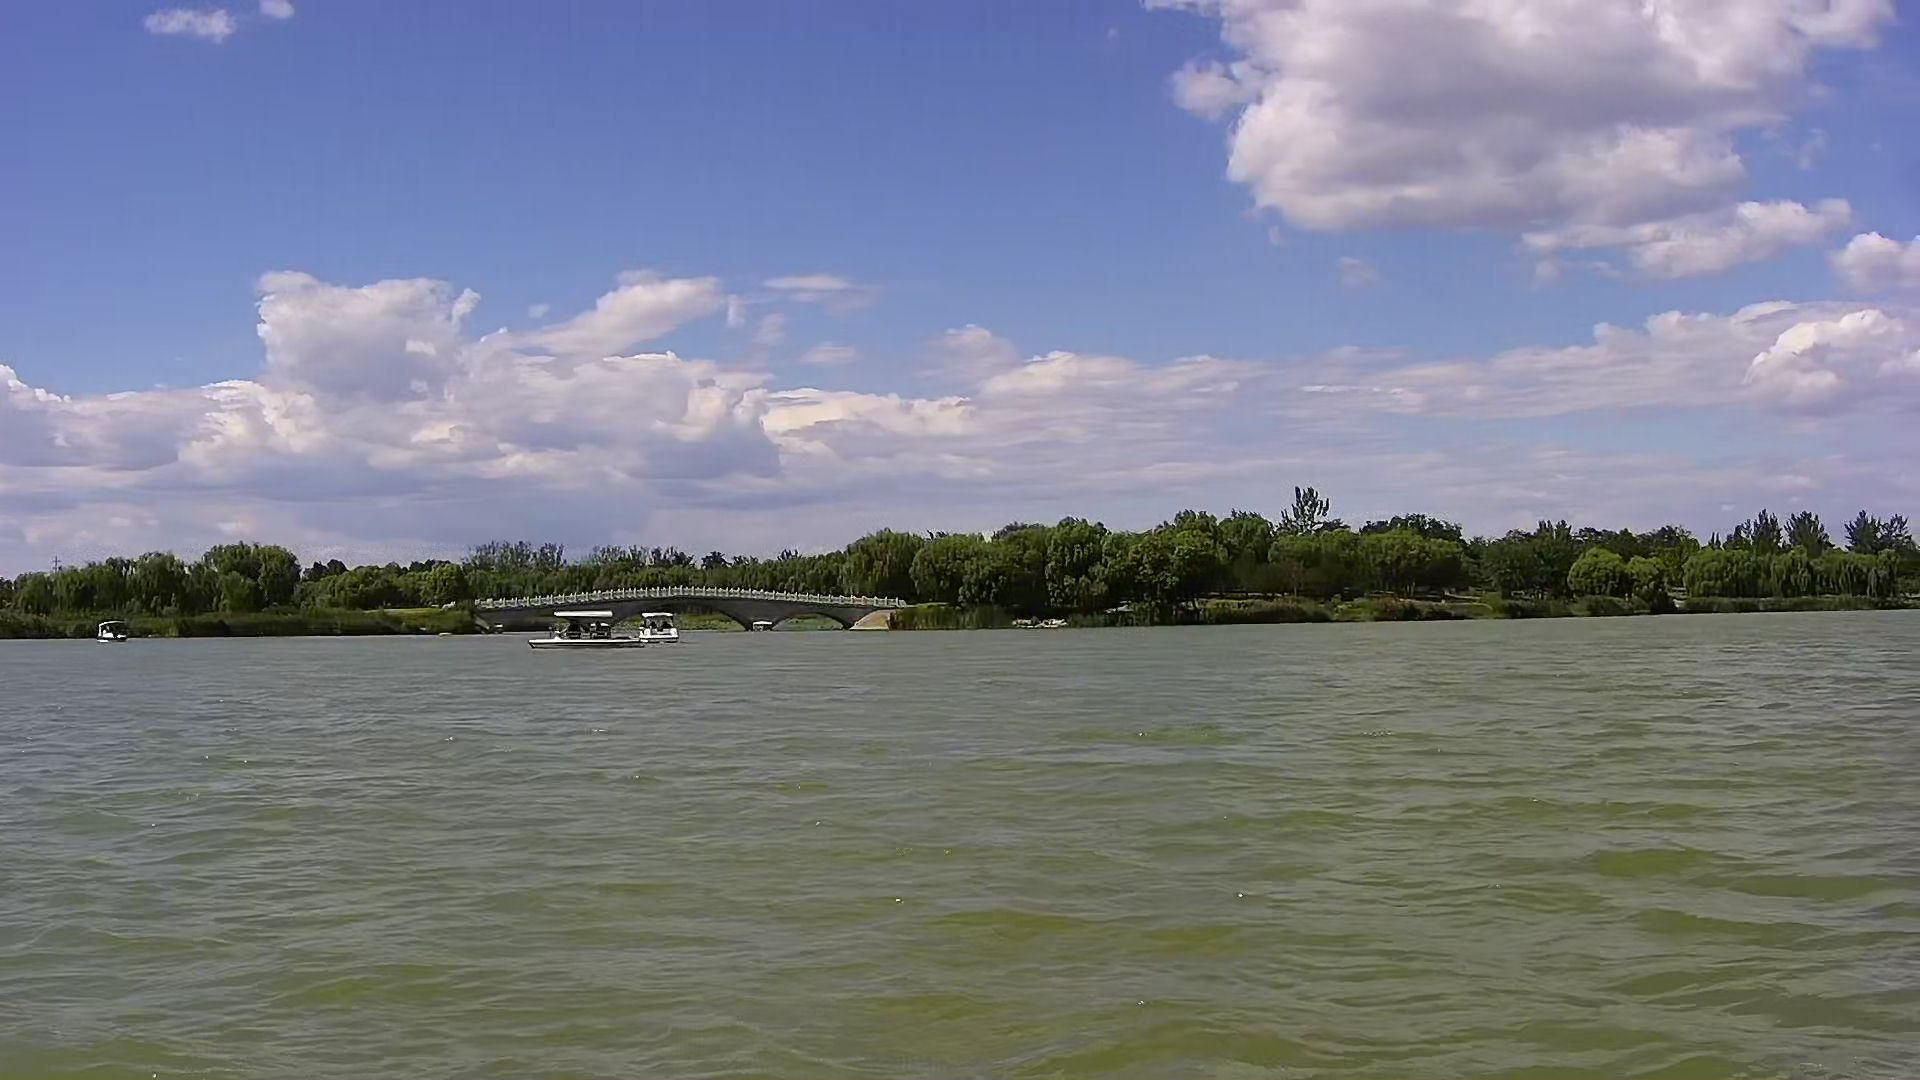boat: (529, 608, 633, 651), (633, 604, 688, 650), (83, 615, 133, 642)
bridge: (479, 582, 911, 636)
